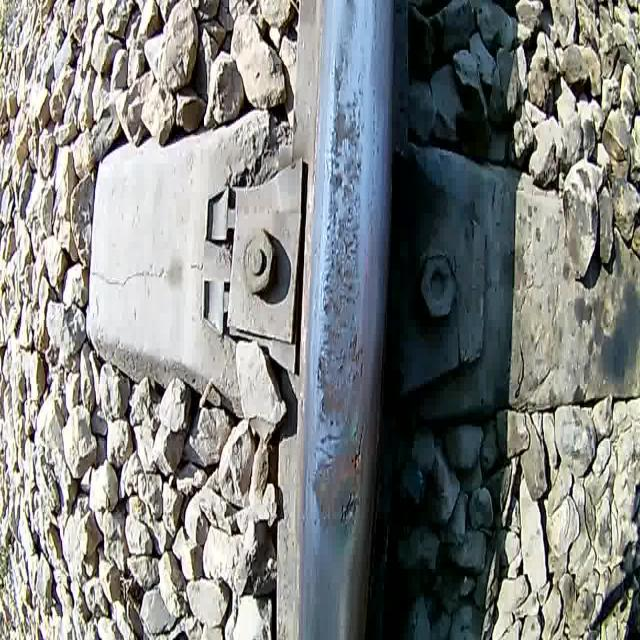Cracks: (348, 416, 368, 476)
Spallings: (336, 489, 362, 532)
Squats: (299, 38, 392, 546)
